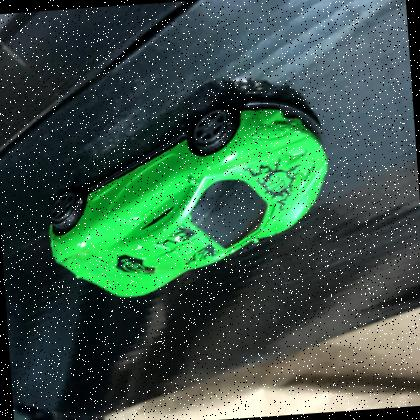Car: (47, 100, 329, 297)
